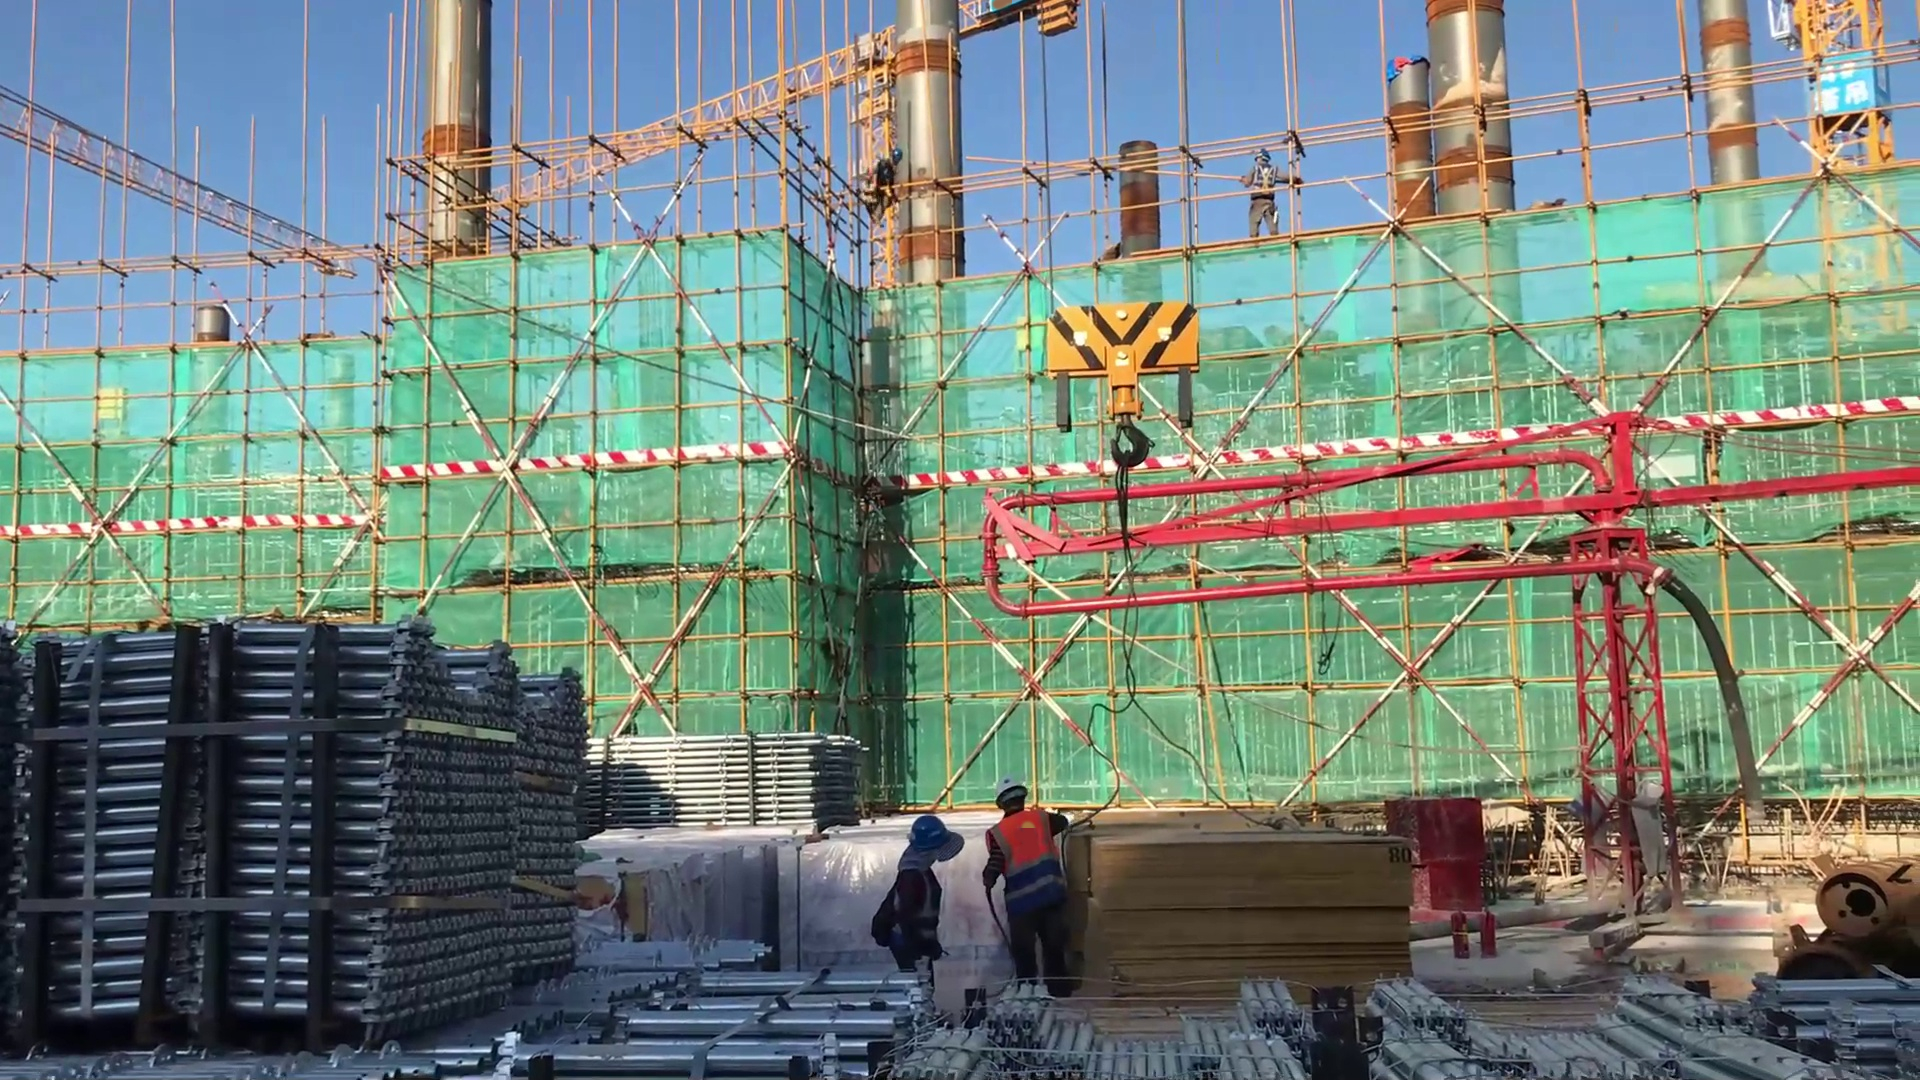board: (1070, 820, 1411, 1006)
helmet: (905, 812, 954, 856), (992, 781, 1034, 820), (1254, 149, 1279, 170)
hook: (1055, 289, 1208, 489)
person: (973, 782, 1091, 1008), (873, 804, 963, 1027), (1240, 148, 1300, 245)
scaffold: (5, 589, 609, 1064), (501, 923, 933, 1080), (1363, 946, 1765, 1080), (951, 964, 1307, 1080), (579, 724, 881, 832), (1765, 974, 1920, 1071)
slogan: (1804, 38, 1901, 130)
vest: (981, 802, 1069, 909), (888, 851, 943, 971), (1250, 165, 1277, 203)
